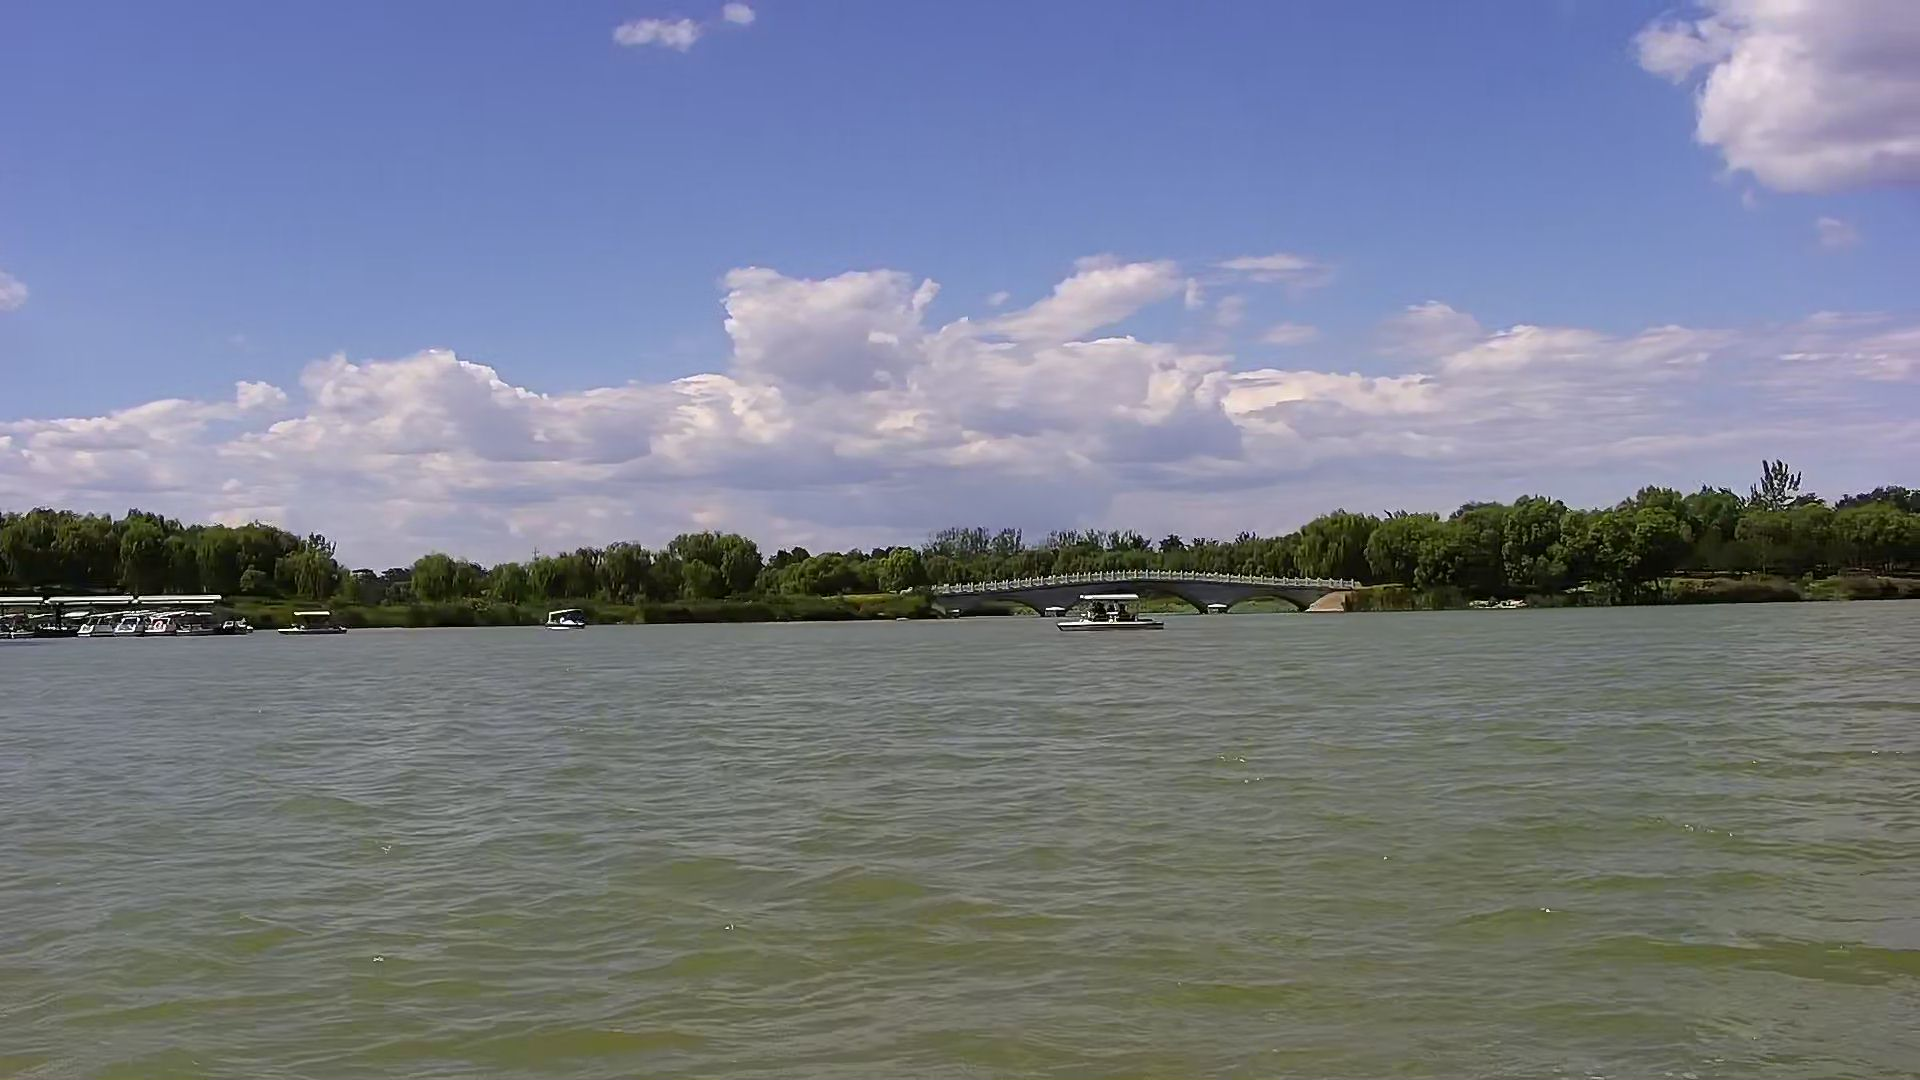boat: (1054, 592, 1171, 636), (273, 603, 363, 645), (539, 607, 589, 632)
bridge: (924, 564, 1367, 624)
